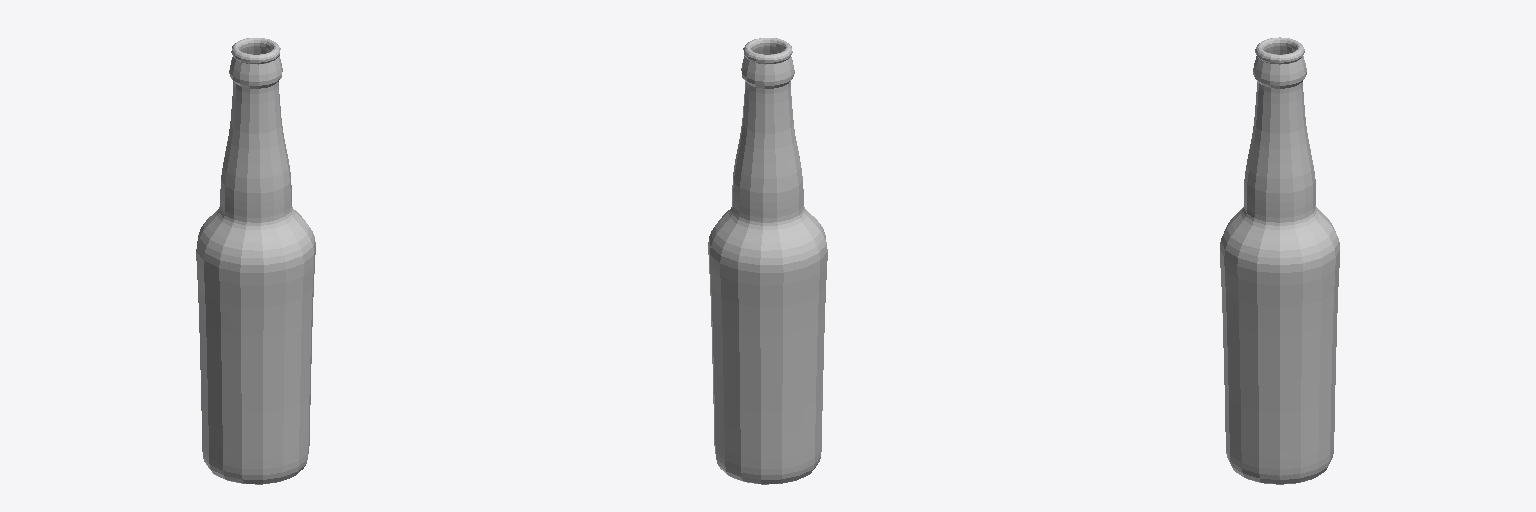
The model's file is bottle_small2.obj.
3 renders of one model, left to right at view 1: azimuth 30°, elevation 25°; view 2: azimuth 150°, elevation 25°; view 3: azimuth 270°, elevation 25°, orthographic.
Parts seen in each view (by area): view 1: initialShadingGroup Mesh; view 2: initialShadingGroup Mesh; view 3: initialShadingGroup Mesh.
Part boxes in pixels (left/top/right/bottom): initialShadingGroup Mesh: left=196, top=38, right=315, bottom=484; initialShadingGroup Mesh: left=708, top=38, right=827, bottom=484; initialShadingGroup Mesh: left=1220, top=37, right=1339, bottom=484.
Size of the model in its own units: 0.2662 by 1.02 by 0.2662.